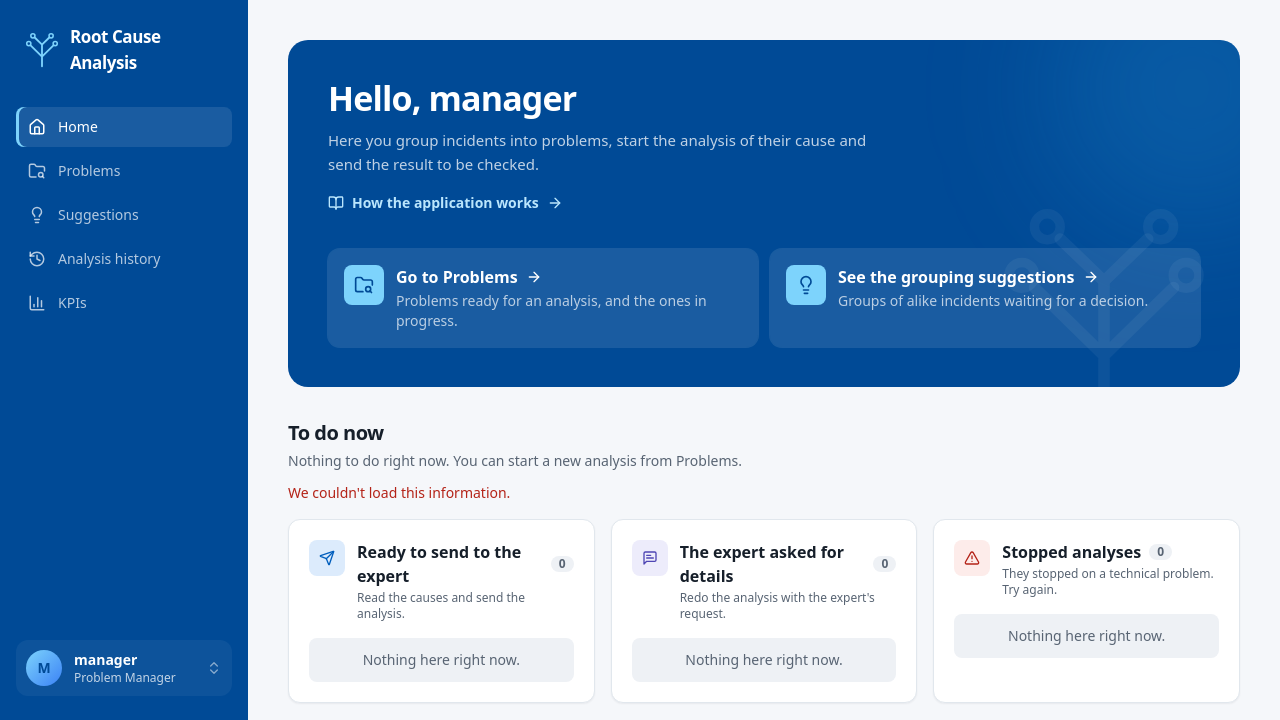
Scenario: shell and guards › logs out from the user menu
What coordinates should you click on to do the following:
click the button with aria-label "Account menu"
I would click on:
 (124, 668)
Its box is [16,640,232,696].
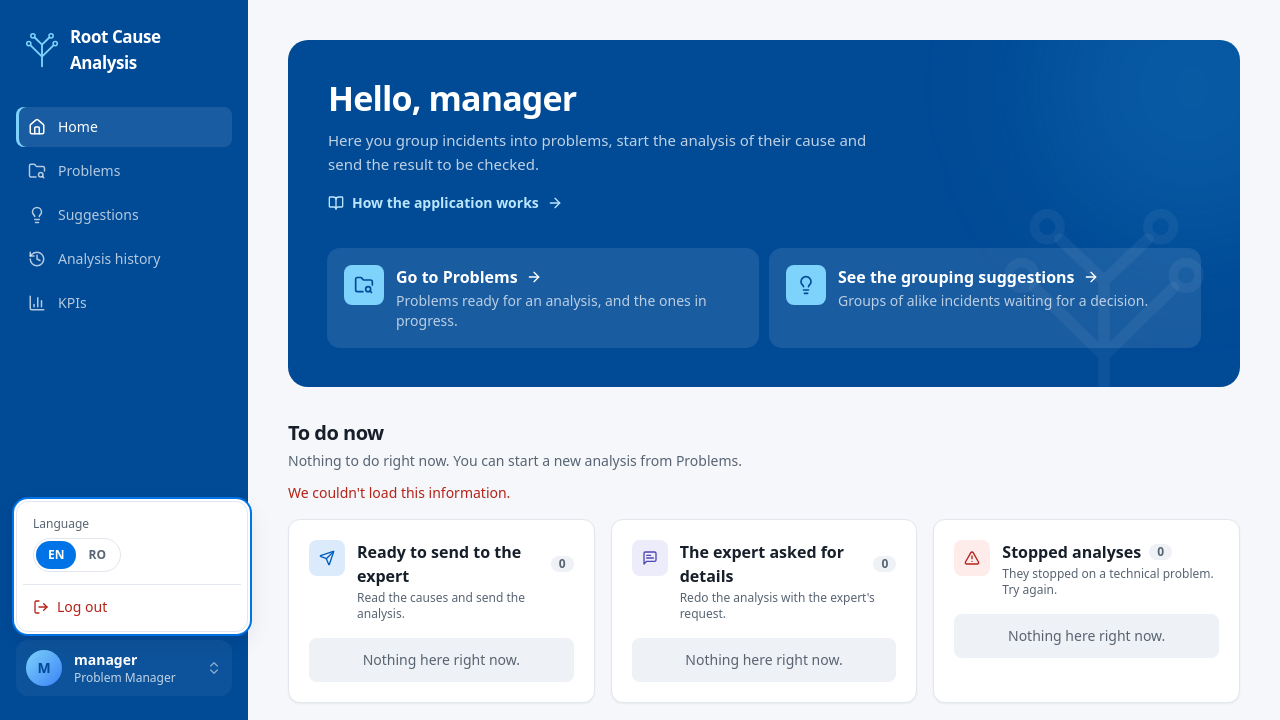
What coordinates should you click on to do the following:
click the menu item "Log out"
I would click on:
 (70, 606)
Its box is [33,597,107,616].
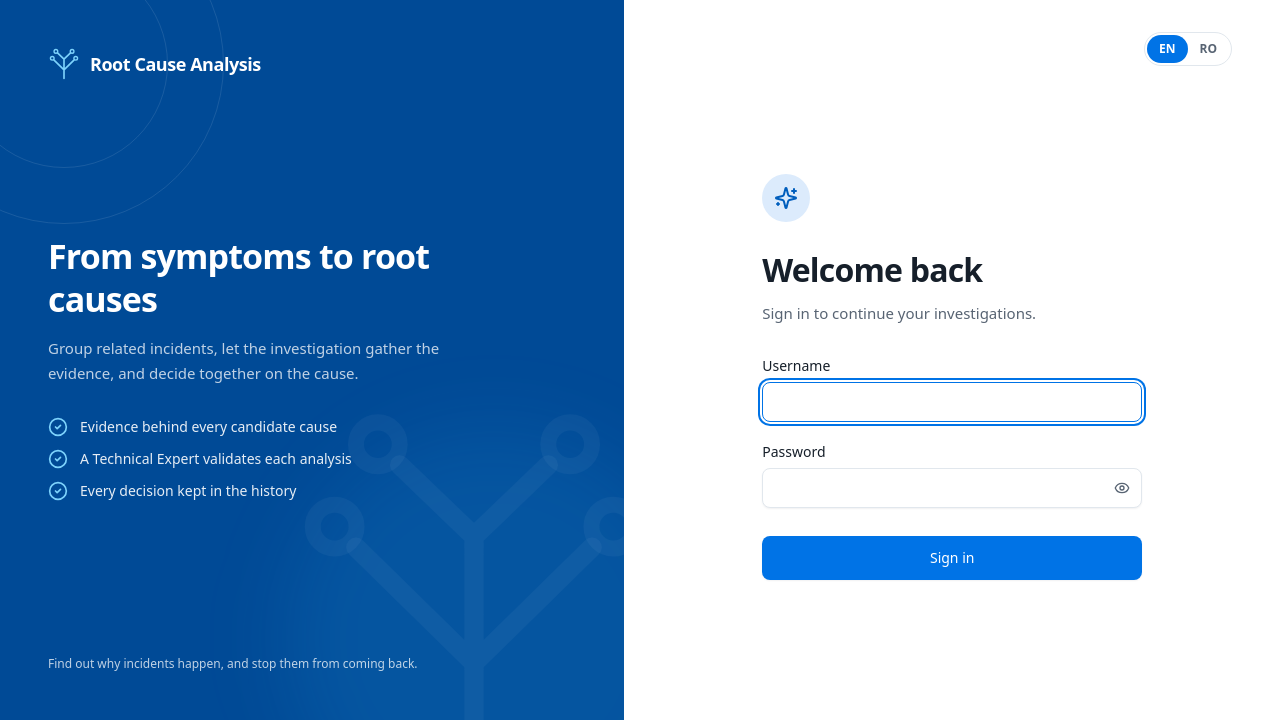
Check: the heading "Welcome back" is shown, box [762,248,982,291]
